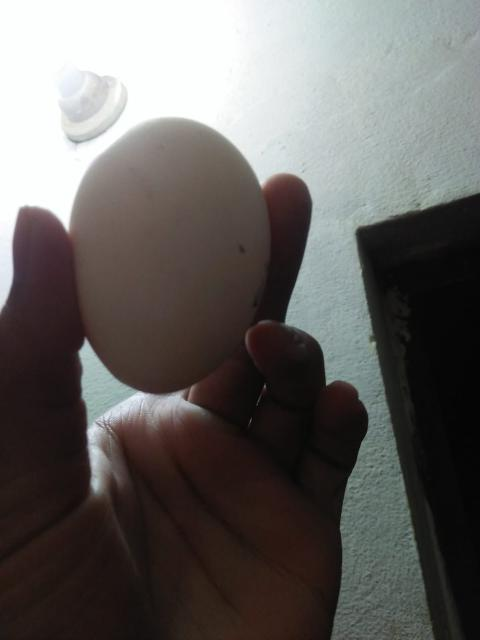Sano: (68, 114, 272, 394)
